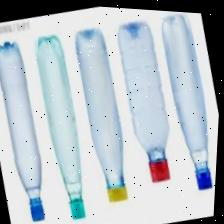plastic: (26, 33, 103, 222), (66, 23, 143, 205), (108, 15, 188, 185), (151, 8, 224, 191), (0, 38, 61, 224)
